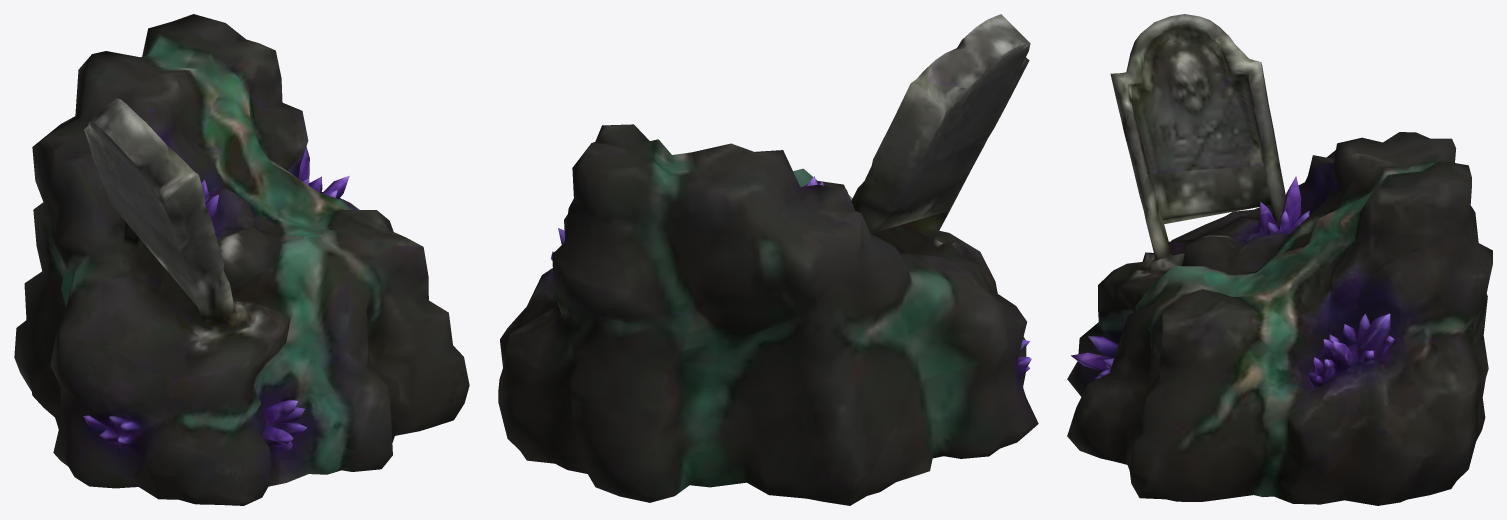
File: prop_node_ore_seam.glb
The picture shows the model from 3 angles, left to right: view 1: azimuth 30°, elevation 25°; view 2: azimuth 150°, elevation 25°; view 3: azimuth 270°, elevation 25°; orthographic projection. The views are drawn at different scales.
Visible parts, largest first — view 1: tripo_node_0bf5bb75-011f-4941-bb16-5c0978e515fd; view 2: tripo_node_0bf5bb75-011f-4941-bb16-5c0978e515fd; view 3: tripo_node_0bf5bb75-011f-4941-bb16-5c0978e515fd.
Boxes of the visible parts, left/top/right/bottom form: tripo_node_0bf5bb75-011f-4941-bb16-5c0978e515fd: left=14, top=14, right=469, bottom=505; tripo_node_0bf5bb75-011f-4941-bb16-5c0978e515fd: left=498, top=14, right=1038, bottom=505; tripo_node_0bf5bb75-011f-4941-bb16-5c0978e515fd: left=1067, top=14, right=1492, bottom=505.
Size of the model in its own units: 0.9786 by 0.8964 by 0.998.
1 material, 1 textured.
